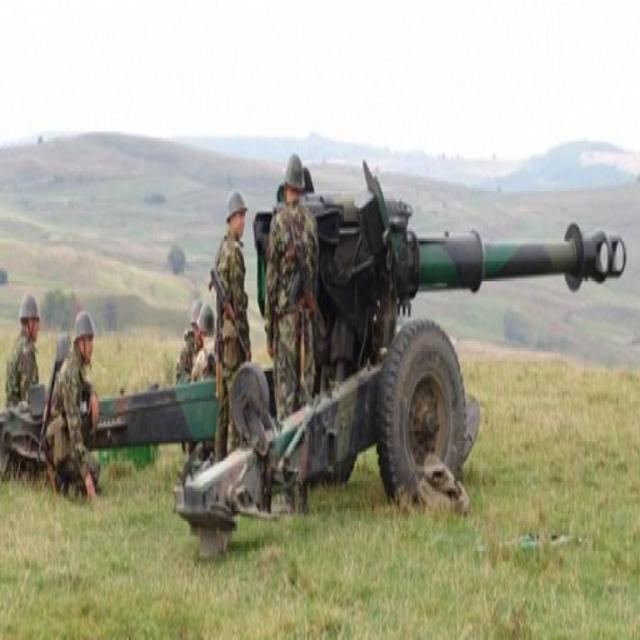ART: (0, 163, 628, 539)
